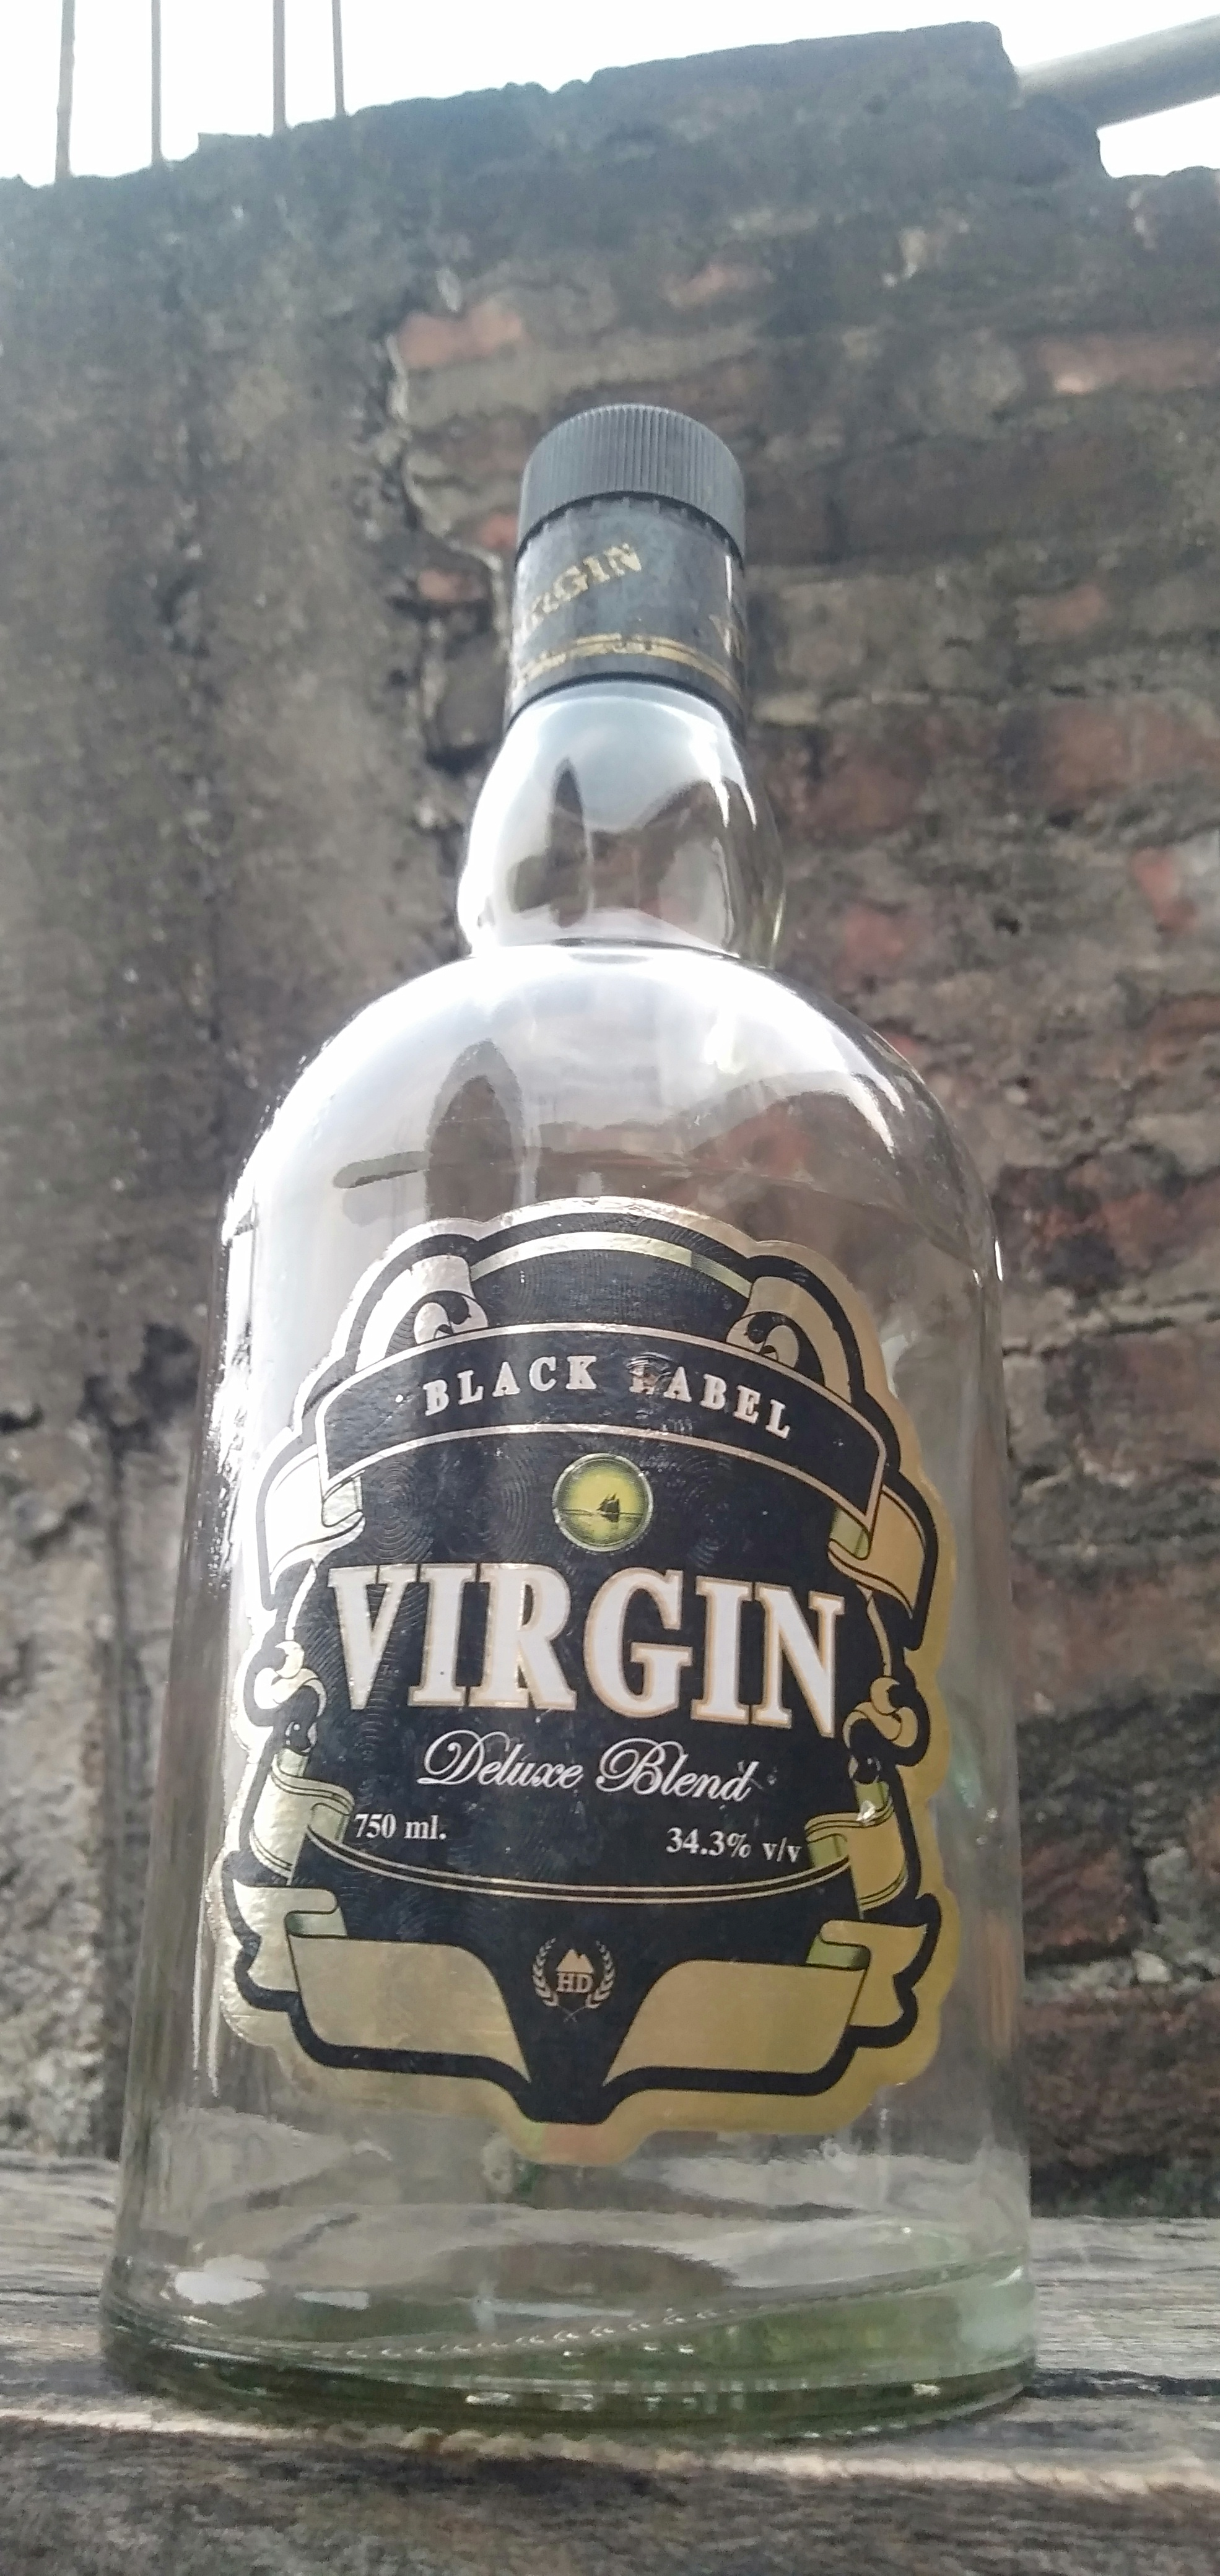glass_bottle: (89, 375, 1084, 2474)
